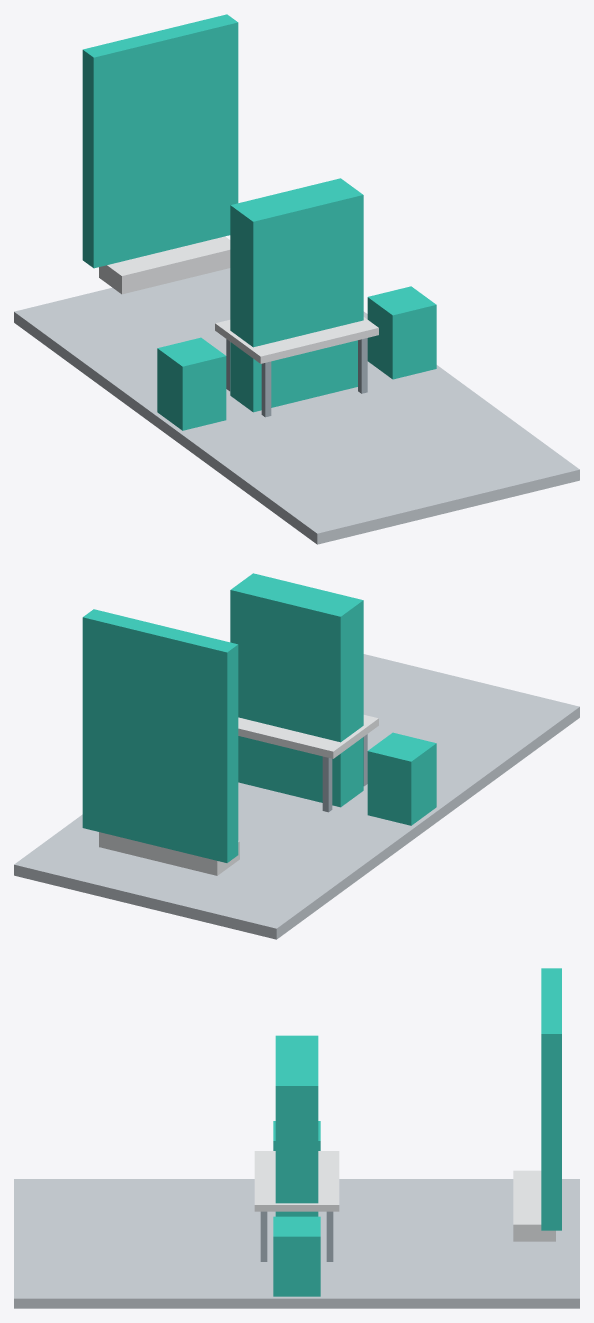
The picture shows the model from 3 angles, top to bottom: view 1: azimuth 30°, elevation 25°; view 2: azimuth 150°, elevation 25°; view 3: azimuth 270°, elevation 25°; orthographic projection. The views are drawn at different scales.
Visible parts, largest first — view 1: Exhibition Booth Concept; view 2: Exhibition Booth Concept; view 3: Exhibition Booth Concept.
Part boxes in pixels (bbox=[...]): Exhibition Booth Concept: bbox=[14, 14, 579, 544]; Exhibition Booth Concept: bbox=[14, 573, 579, 939]; Exhibition Booth Concept: bbox=[14, 968, 579, 1308].
Size of the model in its own units: 3 by 2.9 by 6.
